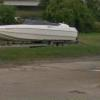Boat: (2, 13, 80, 55)
